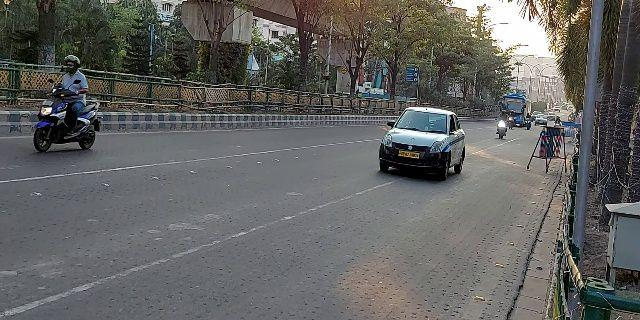Car: (376, 101, 467, 184)
Motorbike: (30, 54, 102, 154), (496, 109, 510, 142)
